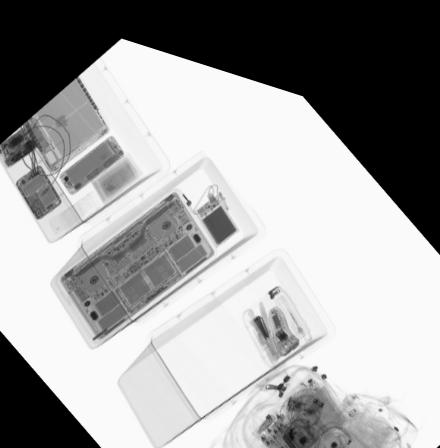Powerbank: (193, 179, 240, 236)
